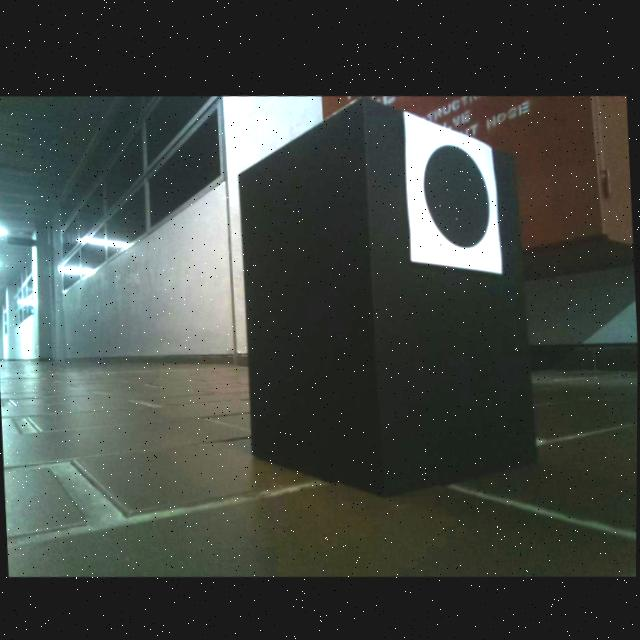CIRCLE: (422, 138, 493, 244)
